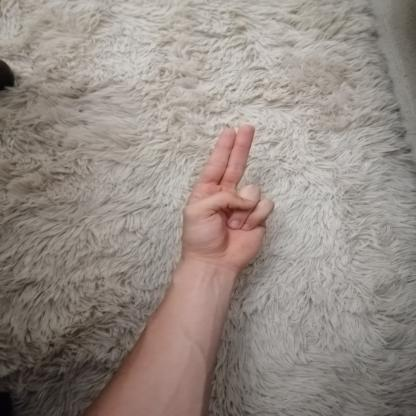TA: (164, 116, 286, 274)
